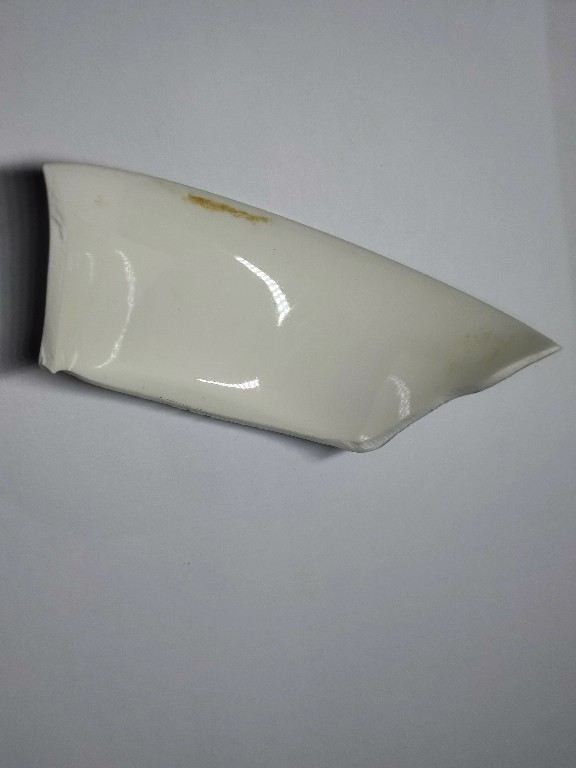ceramics: (20, 143, 570, 462)
